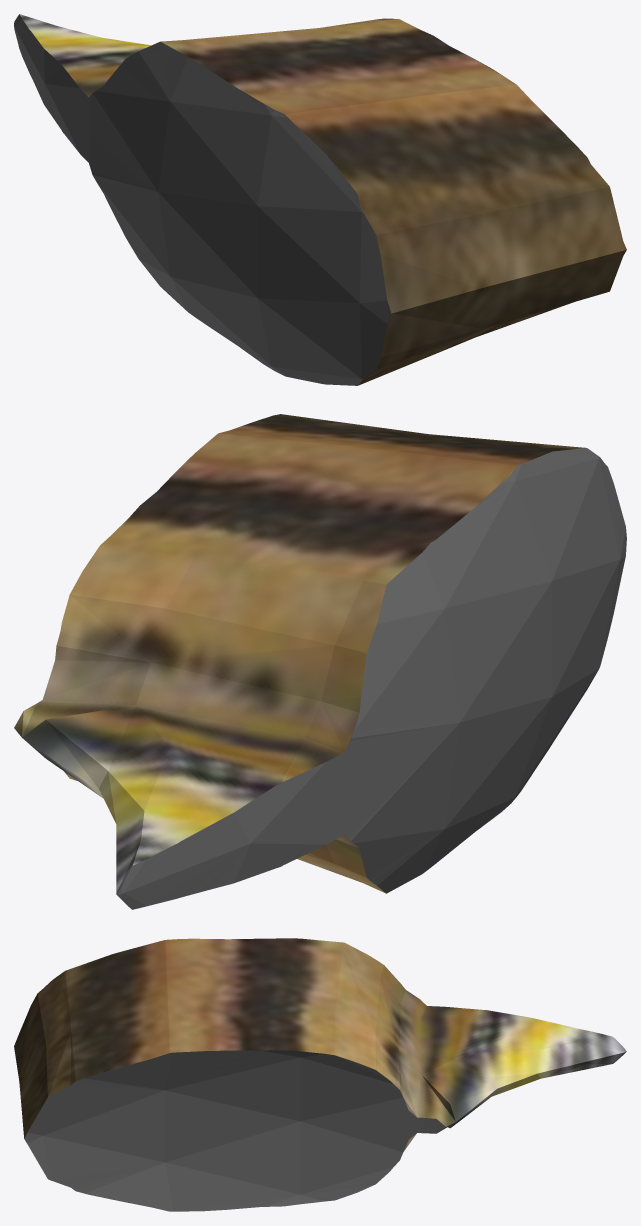
3 renders of one model, top to bottom at view 1: azimuth 30°, elevation 25°; view 2: azimuth 150°, elevation 25°; view 3: azimuth 270°, elevation 25°, orthographic. The views are drawn at different scales.
Visible parts, largest first — view 1: link_11_visual; view 2: link_11_visual; view 3: link_11_visual.
Part boxes in pixels (x1=…): link_11_visual: x1=14, y1=14, x2=626, y2=385; link_11_visual: x1=14, y1=414, x2=626, y2=909; link_11_visual: x1=14, y1=938, x2=626, y2=1211.
Size of the model in its own units: 0.00109 by 0.000934 by 0.00253.
1 material, 1 textured.
